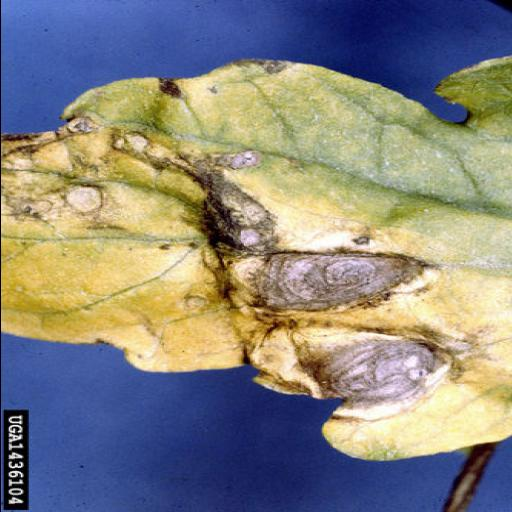Early Blight: (0, 54, 512, 472)
